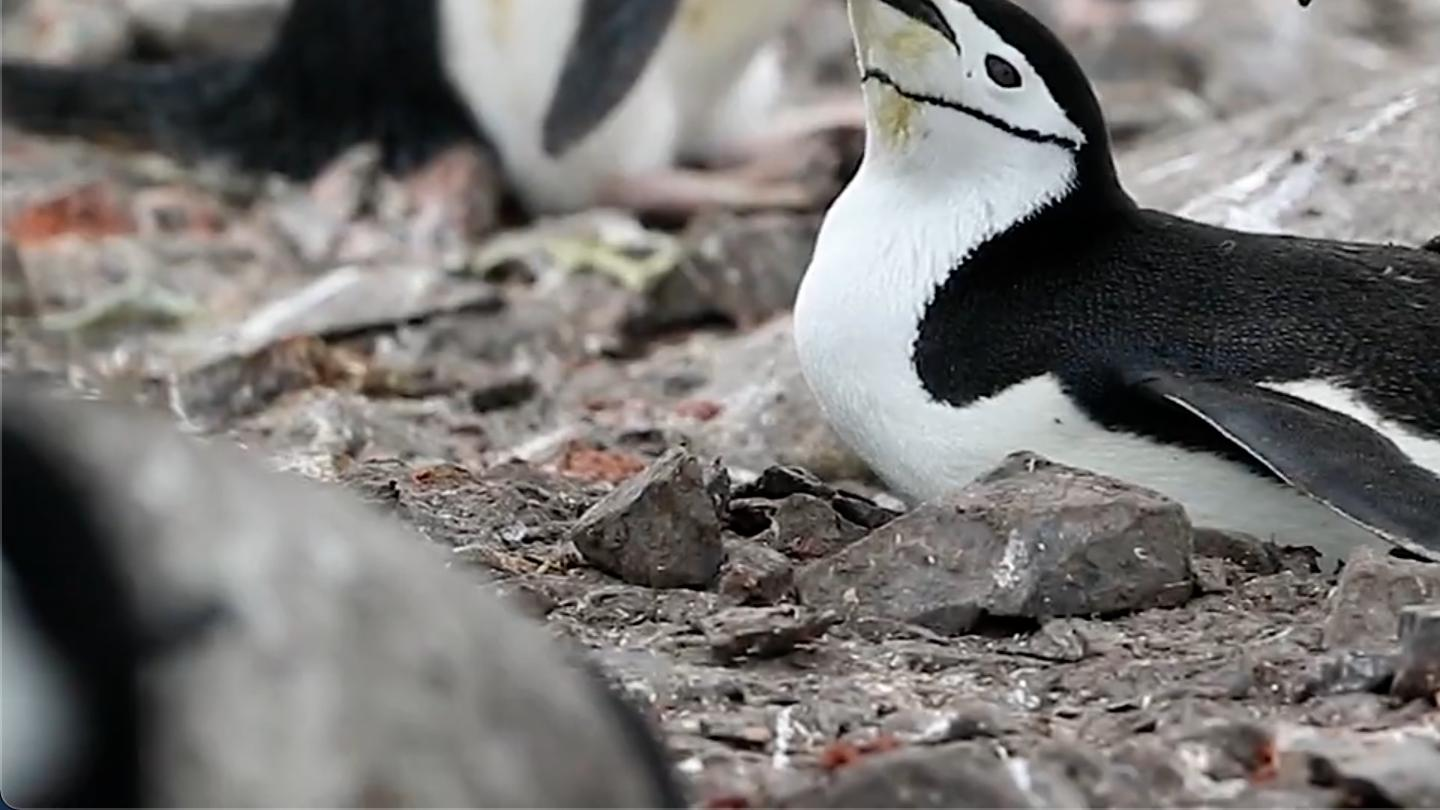Chinstrap Penguin: (781, 0, 1440, 494), (106, 0, 1249, 259), (1206, 0, 1440, 212)
